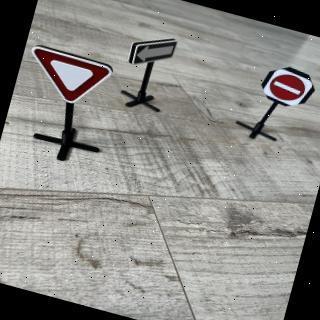sign_noentry: (260, 65, 317, 114)
sign_oneway_left: (127, 29, 179, 77)
sign_yield: (21, 44, 117, 115)
